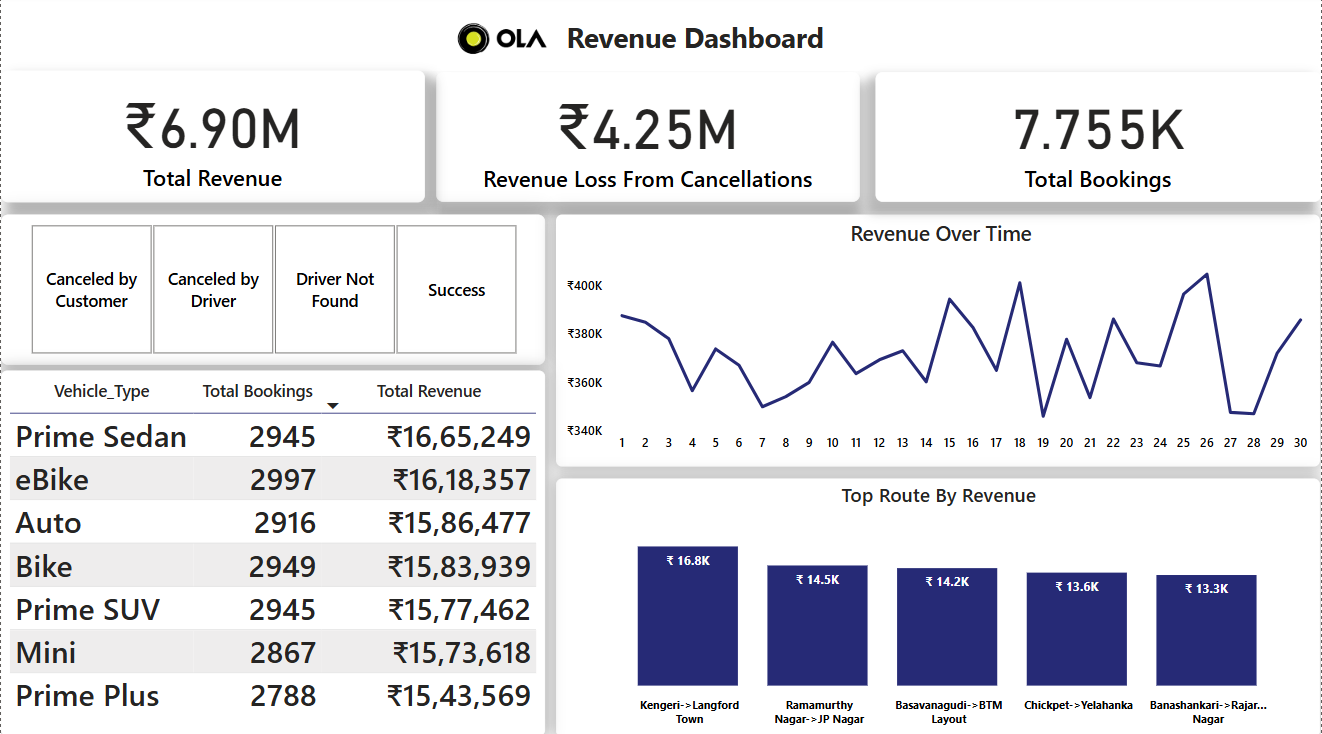

The page's visual inventory and layout, read from the dashboard file:
{"tool":"powerbi","page":{"name":"Revenue Insights","canvas":[1280,720],"ordinal":0},"visuals":[{"type":"card","fields":{"Values":["Sum(OlaData.Booking_Value)"]},"box":[422.6,76.1,411.3,126.3],"z":0},{"type":"textbox","box":[0,0,1280.8,74.5],"z":1000},{"type":"image","box":[434,11.3,105.2,63.1],"z":2000},{"type":"card","fields":{"Values":["Sum(OlaData.Booking_Value)"]},"box":[0,74.5,411.3,127.9],"z":3000},{"type":"slicer","fields":{"Values":["OlaData.Booking_Status"]},"box":[0,213.7,527.9,145.7],"z":4000},{"type":"lineChart","title":"Revenue Over Time","fields":{"Y":["Sum(OlaData.Booking_Value)"],"Category":["OlaData.Date.Variation.Date Hierarchy.Day"]},"box":[539.2,213.7,741.6,244.5],"z":5000},{"type":"columnChart","title":"Top Route By Revenue","fields":{"Category":["OlaData.Route"],"Y":["Sum(OlaData.Booking_Value)"]},"box":[539.2,469.6,741.6,251],"z":6000},{"type":"tableEx","fields":{"Values":["OlaData.Vehicle_Type","OlaData.Total Bookings","Sum(OlaData.Booking_Value)"]},"box":[0,365.9,527.9,354.6],"z":7000},{"type":"card","fields":{"Values":["OlaData.Total Bookings"]},"box":[848.5,76.1,432.3,126.3],"z":8000}]}

Visuals, with their boxes in screenshot pixels (x1, y1, x2, y2), scaled from the page's 1280x720 canvas onto the 1322x734 screenshot:
card - Sum(OlaData.Booking_Value): BBox(436, 78, 861, 206)
textbox: BBox(0, 0, 1321, 76)
image: BBox(448, 12, 557, 76)
card - Sum(OlaData.Booking_Value): BBox(0, 76, 425, 206)
slicer - OlaData.Booking_Status: BBox(0, 218, 545, 366)
"Revenue Over Time" lineChart: BBox(557, 218, 1321, 467)
"Top Route By Revenue" columnChart: BBox(557, 479, 1321, 733)
tableEx - OlaData.Vehicle_Type x OlaData.Total Bookings: BBox(0, 373, 545, 733)
card - OlaData.Total Bookings: BBox(876, 78, 1321, 206)
